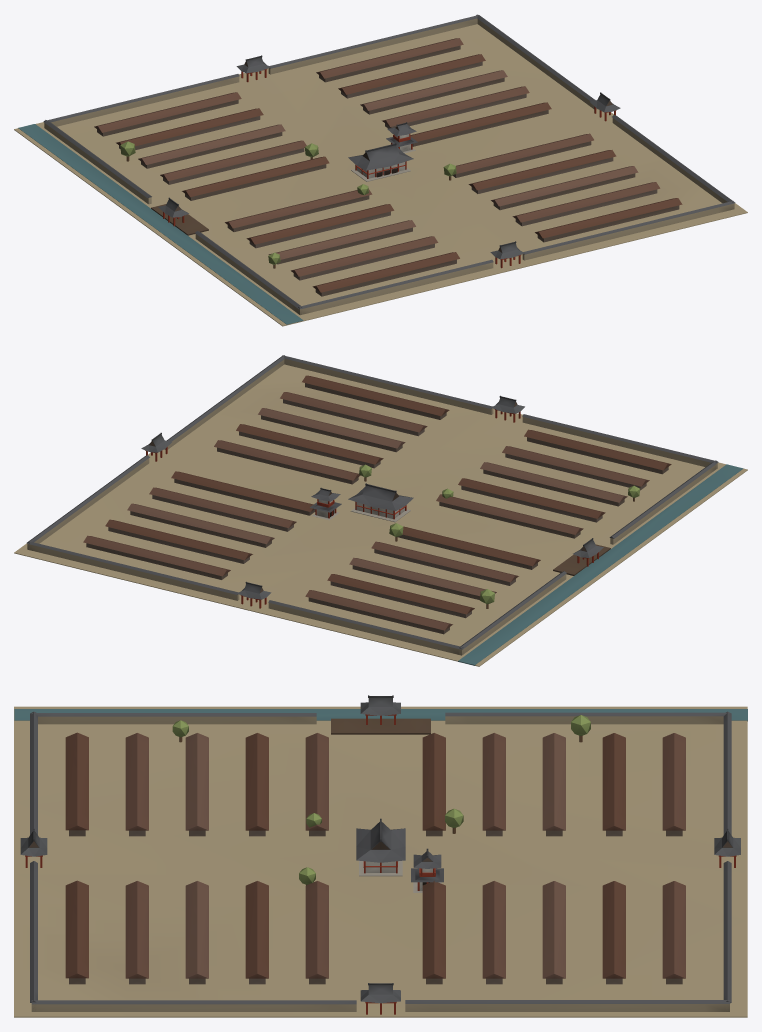
Rendered from market.glb.
3 renders of one model, top to bottom at view 1: azimuth 30°, elevation 25°; view 2: azimuth 150°, elevation 25°; view 3: azimuth 270°, elevation 25°, orthographic. The views are drawn at different scales.
Visible parts, largest first — view 1: p0_grounds, p1_halls, p2_roofs; view 2: p0_grounds, p1_halls, p2_roofs; view 3: p0_grounds, p1_halls, p2_roofs.
Part boxes in pixels (x1,y1,x2,y2): p0_grounds: (14, 14, 747, 326); p1_halls: (94, 38, 682, 296); p2_roofs: (120, 122, 456, 268); p0_grounds: (14, 355, 747, 666); p1_halls: (83, 375, 671, 634); p2_roofs: (310, 464, 640, 608); p0_grounds: (14, 706, 747, 1017); p1_halls: (20, 695, 740, 1014); p2_roofs: (172, 715, 590, 885).
Bounding box in the file's own units: 220 × 11.88 × 220.
